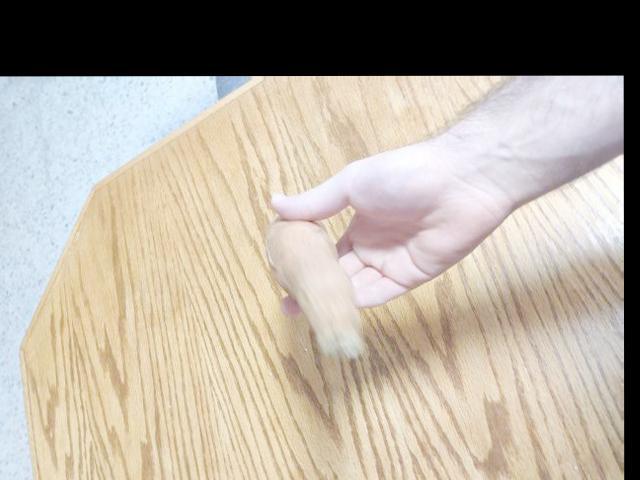sweet_potato: (267, 208, 371, 360)
